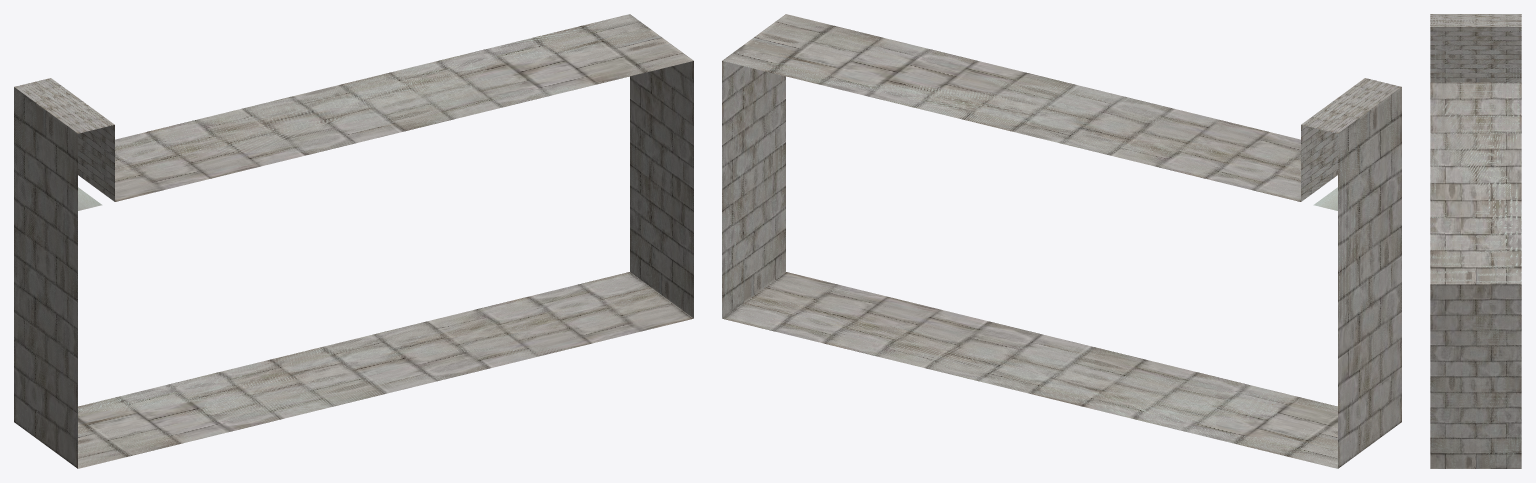
File: mur.obj
The picture shows the model from 3 angles, left to right: view 1: azimuth 30°, elevation 25°; view 2: azimuth 150°, elevation 25°; view 3: azimuth 270°, elevation 25°; orthographic projection. The views are drawn at different scales.
Size of the model in its own units: 50 by 26 by 9.
Materials: 2 (2 with a texture image).
